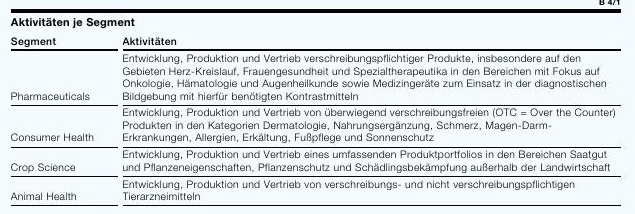table: (0, 0, 635, 214)
